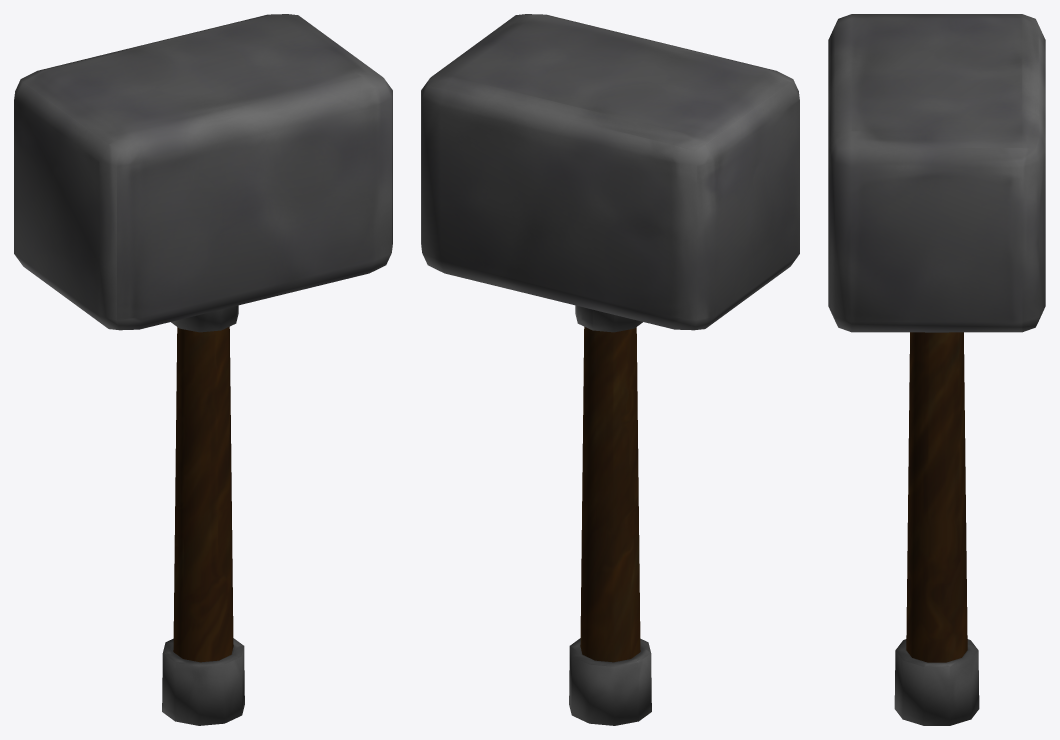
Rendered from hamr.fbx.
3 views of the same model, side by side, from view 1: azimuth 30°, elevation 25°; view 2: azimuth 150°, elevation 25°; view 3: azimuth 270°, elevation 25° (orthographic).
Visible parts, largest first — view 1: Cylinder.002; view 2: Cylinder.002; view 3: Cylinder.002.
Boxes of the visible parts, x1,y1,x2,y2 form: Cylinder.002: (14,14,392,725); Cylinder.002: (421,14,799,725); Cylinder.002: (828,14,1045,725).
Size of the model in its own units: 18.48 by 38.18 by 11.84.
